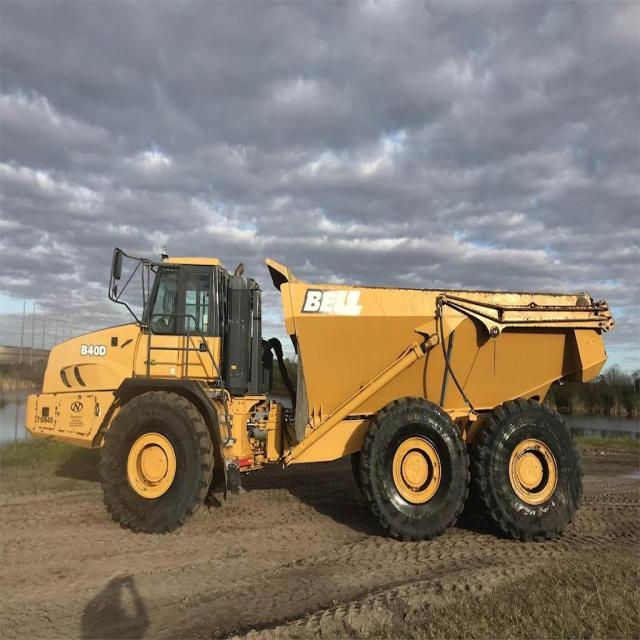dump_truck: (23, 233, 606, 550)
